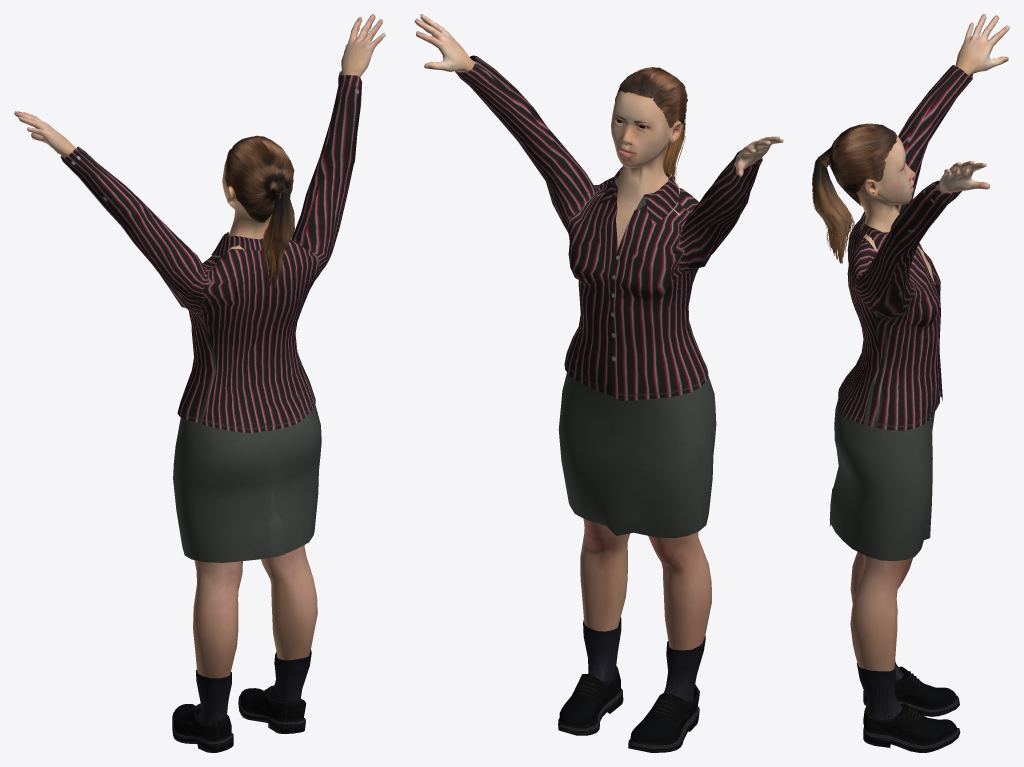
Rendered from cheering_3.gltf.
3 renders of one model, left to right at view 1: azimuth 30°, elevation 25°; view 2: azimuth 150°, elevation 25°; view 3: azimuth 270°, elevation 25°, orthographic. The views are drawn at different scales.
Parts seen in each view (by area): view 1: cheering; view 2: cheering; view 3: cheering.
Part boxes in pixels (x1,y1,x2,y2): cheering: [14, 14, 385, 752]; cheering: [414, 14, 783, 752]; cheering: [812, 14, 1009, 752].
Bounding box in the file's own units: 0.893 × 1.59 × 0.4393.
Materials: 6 (6 with a texture image).
